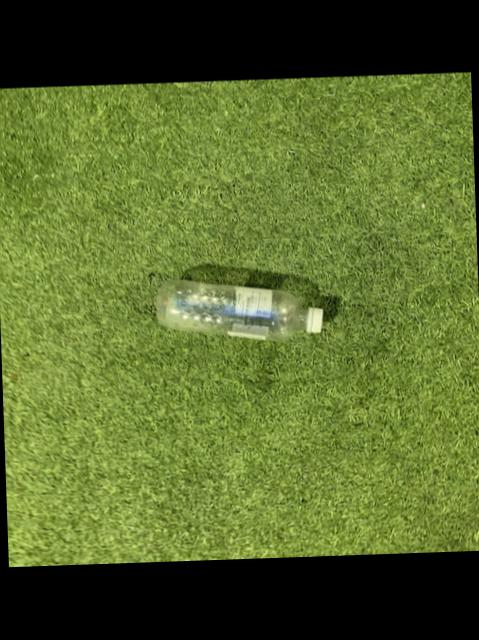plastic: (155, 279, 321, 340)
